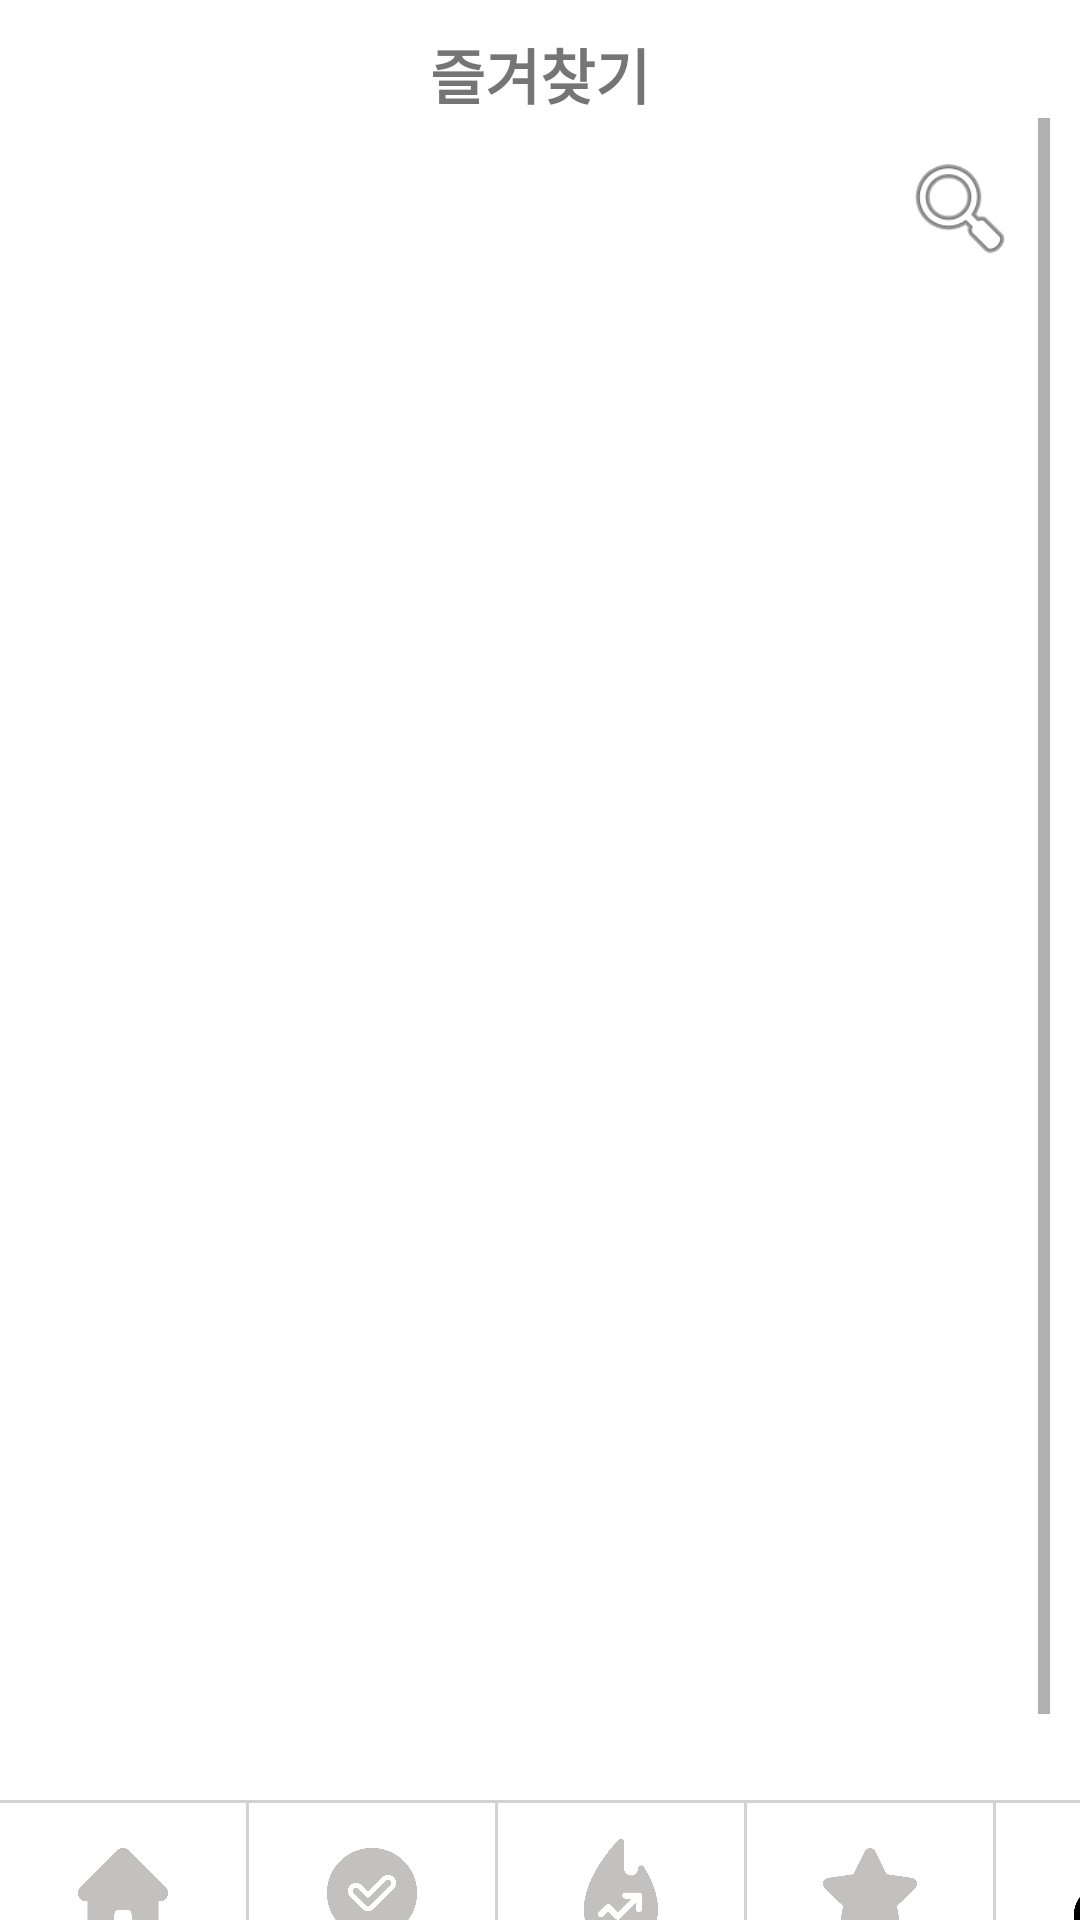

Screen size 1080w x 1920h. Icon name, then its box in pixels as (x1, y1, x2, y2):
search: (915, 164, 1004, 253)
